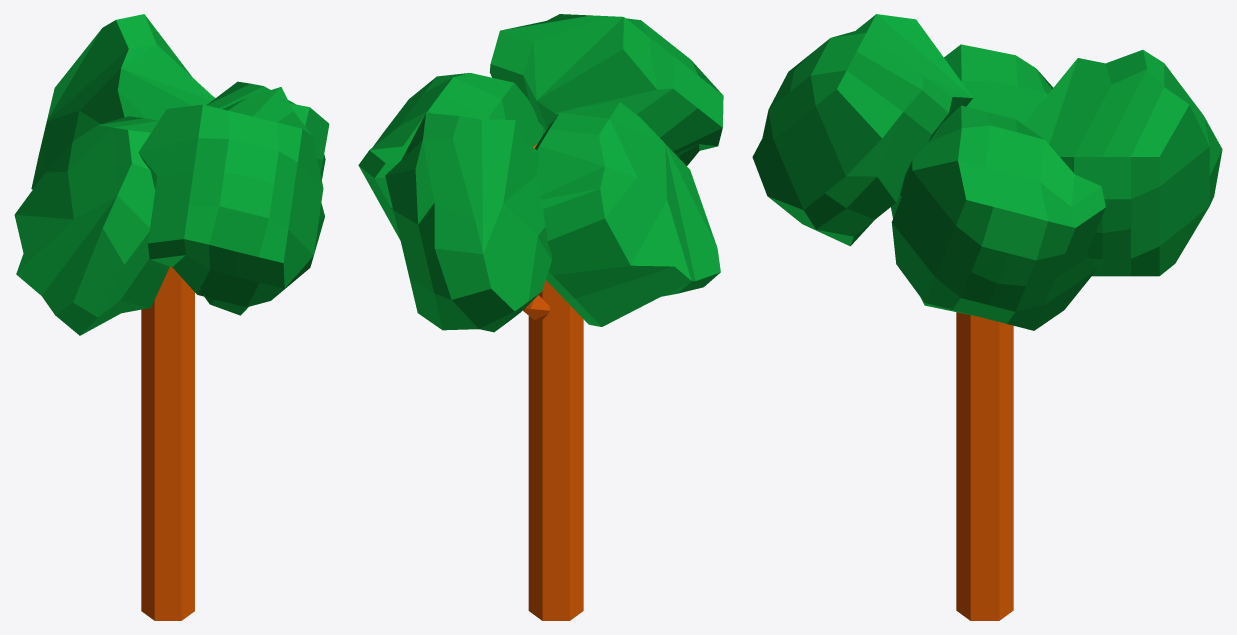
File: tree4.FBX
3 renders of one model, left to right at view 1: azimuth 30°, elevation 25°; view 2: azimuth 150°, elevation 25°; view 3: azimuth 270°, elevation 25°, orthographic. The views are drawn at different scales.
Parts seen in each view (by area): view 1: 对象003, 对象004, Gengon002, 对象002, 对象005; view 2: 对象004, 对象002, 对象003, Gengon002, 对象005; view 3: 对象005, 对象003, 对象002, Gengon002, 对象004.
Part boxes in pixels (x1,y1,x2,y2): 对象003: (138, 87, 324, 307); 对象004: (14, 116, 169, 335); Gengon002: (141, 266, 194, 620); 对象002: (31, 14, 215, 189); 对象005: (204, 81, 329, 315); 对象004: (535, 102, 720, 326); 对象002: (385, 113, 551, 332); 对象003: (489, 14, 723, 165); Gengon002: (528, 144, 583, 620); 对象005: (358, 73, 545, 240); 对象005: (891, 105, 1105, 330); 对象003: (752, 14, 972, 246); 对象002: (1023, 50, 1222, 276); Gengon002: (956, 312, 1013, 620); 对象004: (944, 44, 1053, 124).
Size of the model in its own units: 65.73 by 115 by 83.55.
